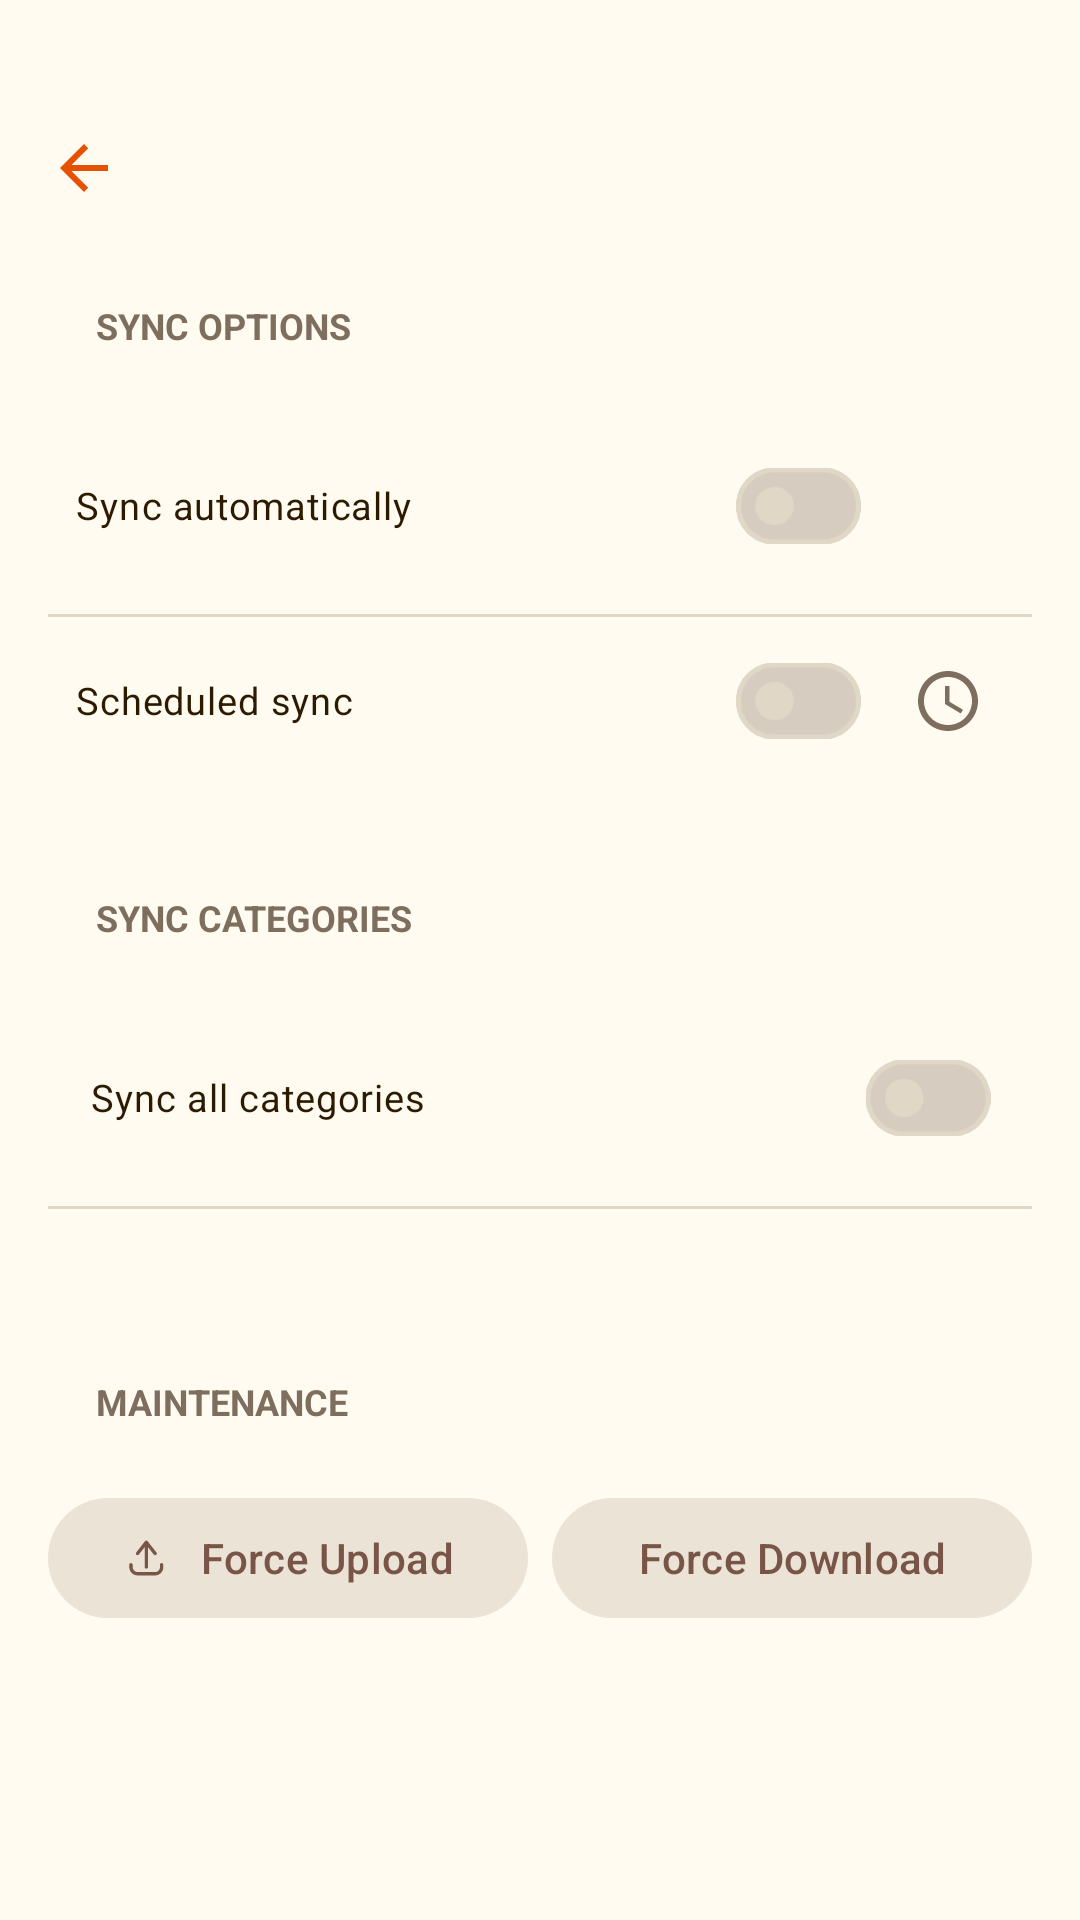

Icon click points for this 1080px x 1920px phone screenshot, format (x=x, y=y):
Back: (x=84, y=168)
Configure Schedule: (x=948, y=701)
